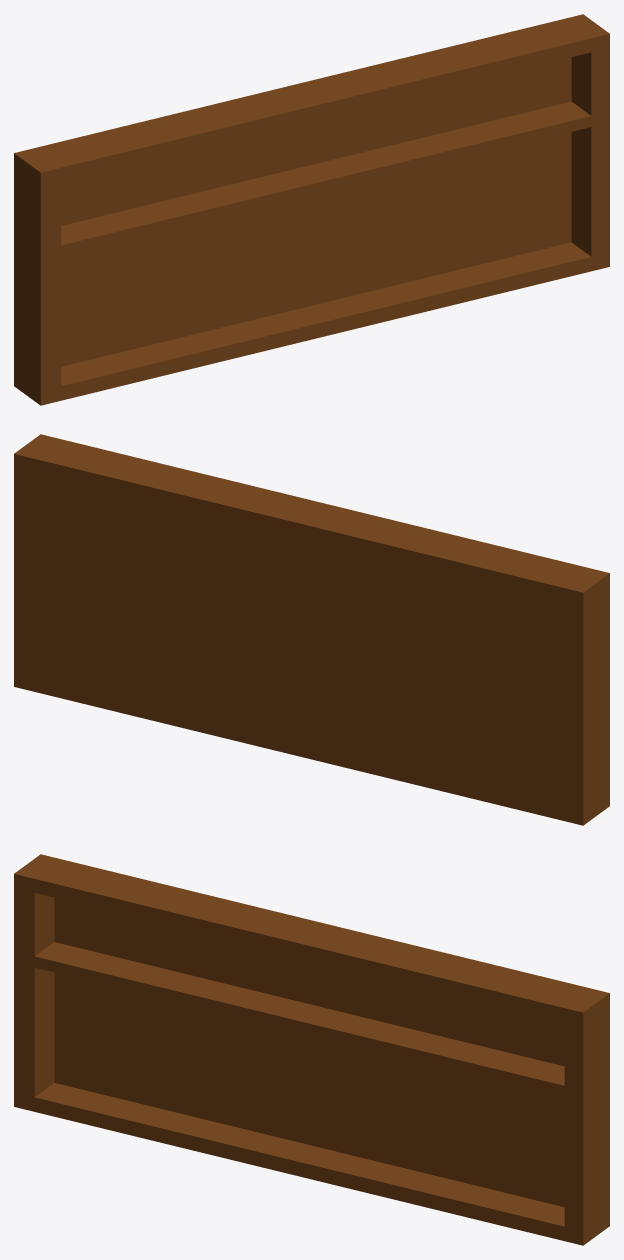
File: Abacus Box.fbx
3 views of the same model, one above another, from view 1: azimuth 30°, elevation 25°; view 2: azimuth 150°, elevation 25°; view 3: azimuth 330°, elevation 25° (orthographic).
Visible parts, largest first — view 1: Abacus; view 2: Abacus; view 3: Abacus.
Part boxes in pixels (<box>): Abacus: <box>14,14,609,405</box>; Abacus: <box>14,434,609,825</box>; Abacus: <box>14,854,609,1245</box>.
Size of the model in its own units: 16.51 by 6.46 by 1.34.
